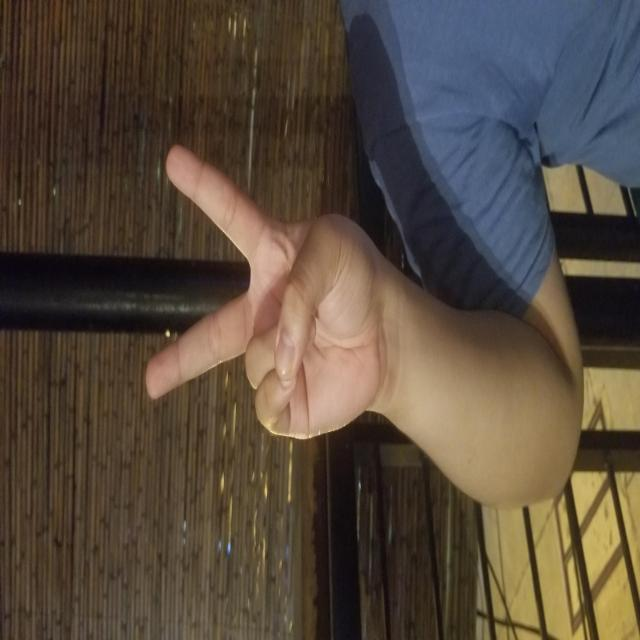V: (202, 144, 496, 379)
